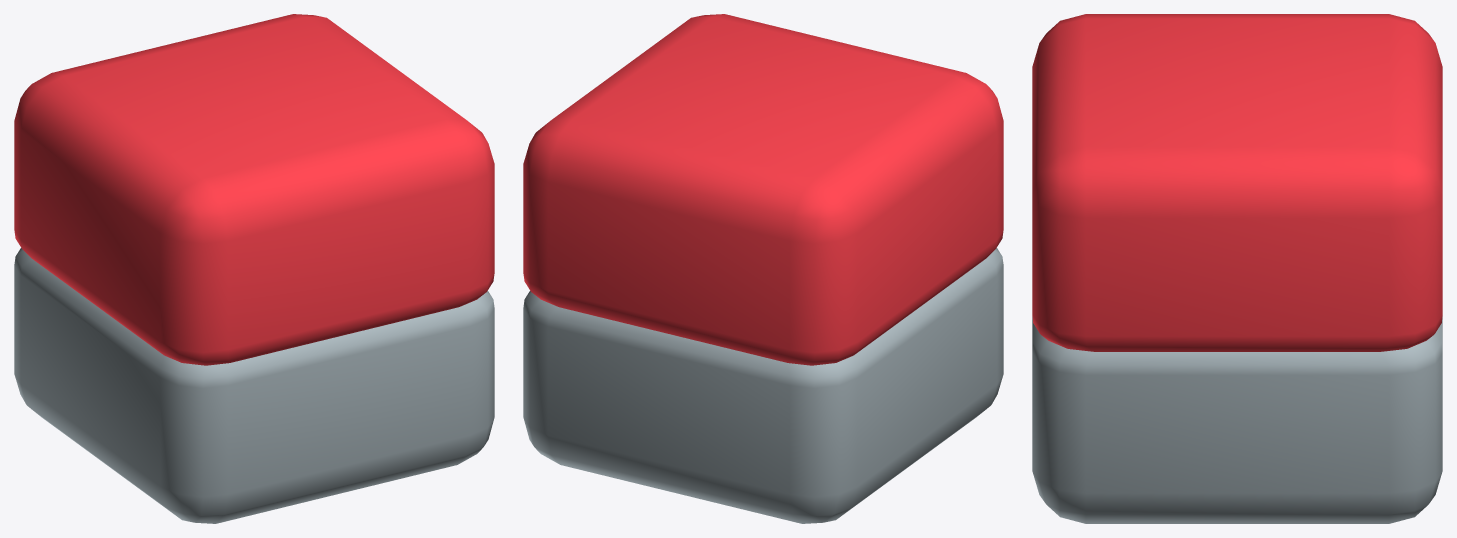
File: tileSmall_teamRed.glb
The picture shows the model from 3 angles, left to right: view 1: azimuth 30°, elevation 25°; view 2: azimuth 150°, elevation 25°; view 3: azimuth 270°, elevation 25°; orthographic projection. The views are drawn at different scales.
Visible parts, largest first — view 1: tileSmall_teamRed; view 2: tileSmall_teamRed; view 3: tileSmall_teamRed.
Part boxes in pixels (bbox=[...]): tileSmall_teamRed: bbox=[14, 14, 494, 523]; tileSmall_teamRed: bbox=[523, 14, 1003, 523]; tileSmall_teamRed: bbox=[1032, 14, 1442, 523].
Bounding box in the file's own units: 0.296 × 0.296 × 0.296.
